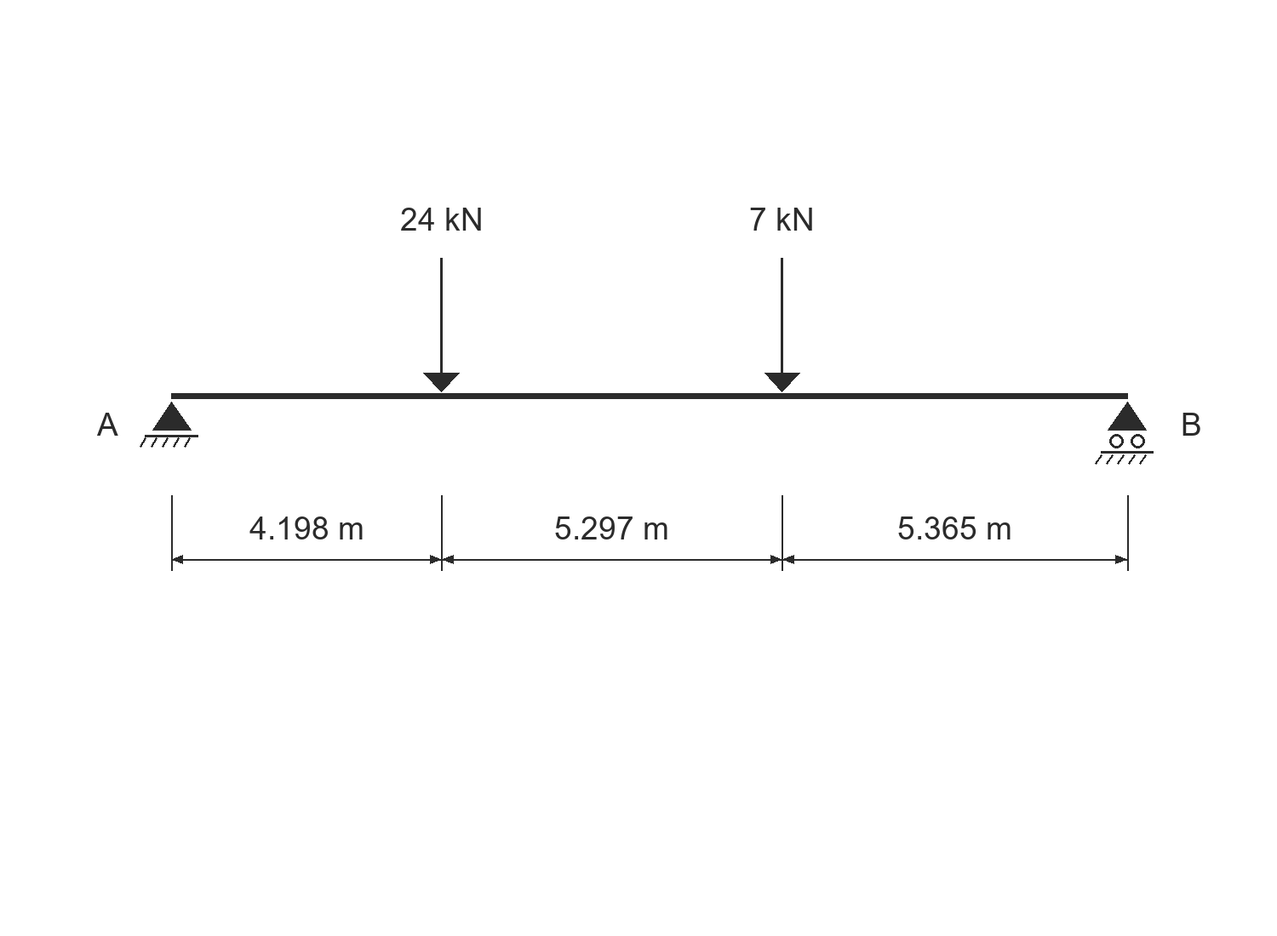pin_support: (140, 402, 198, 448)
point_load: (423, 258, 460, 392), (764, 258, 800, 392)
roller_support: (1095, 402, 1154, 465)
